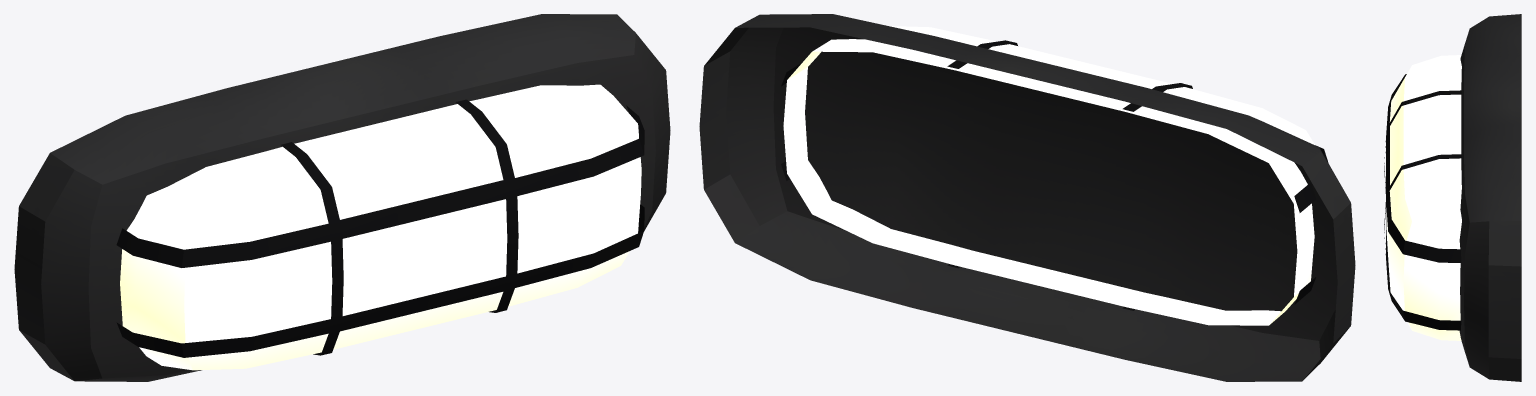
Rendered from light.fbx.
3 renders of one model, left to right at view 1: azimuth 30°, elevation 25°; view 2: azimuth 150°, elevation 25°; view 3: azimuth 270°, elevation 25°, orthographic. The views are drawn at different scales.
Visible parts, largest first — view 1: bulb; view 2: bulb; view 3: bulb.
Part boxes in pixels (x1,y1,x2,y2): bulb: (14,14,670,381); bulb: (699,14,1355,381); bulb: (1384,14,1521,381).
Size of the model in its own units: 0.4042 by 0.1563 by 0.1008.
